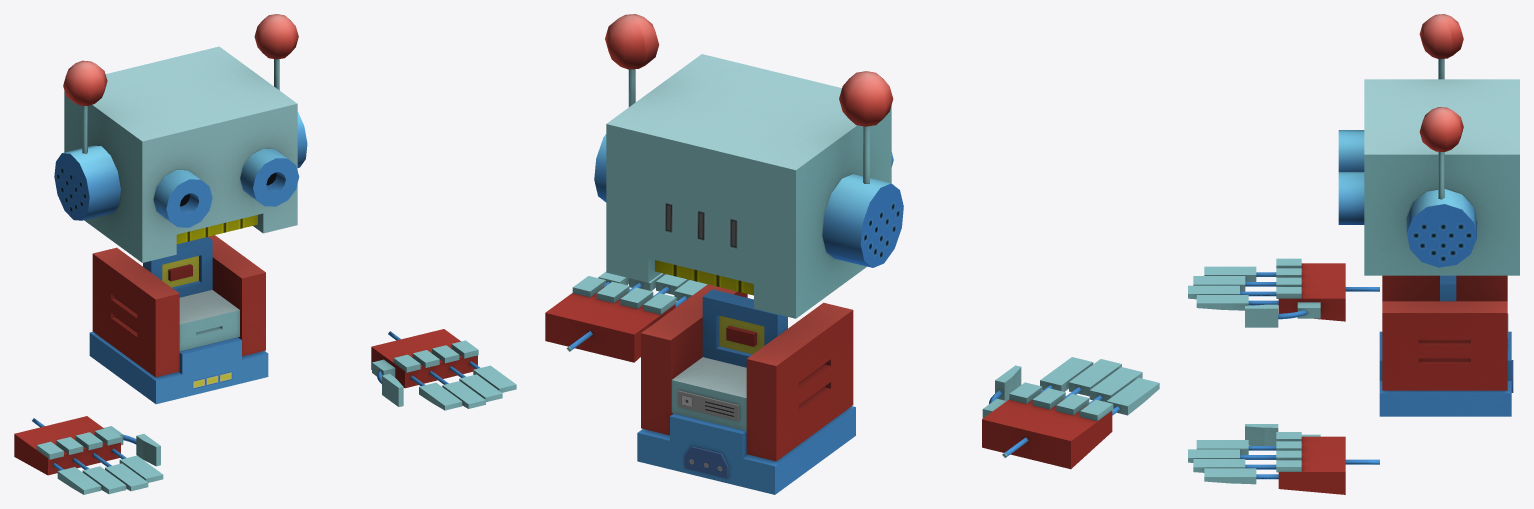
File: square-robot-avatar.glb
The picture shows the model from 3 angles, left to right: view 1: azimuth 30°, elevation 25°; view 2: azimuth 150°, elevation 25°; view 3: azimuth 270°, elevation 25°; orthographic projection. The views are drawn at different scales.
Parts seen in each view (by area): view 1: Square_Robot_mesh; view 2: Square_Robot_mesh; view 3: Square_Robot_mesh.
Boxes of the visible parts, box(x1,y1,x2,y2) form: Square_Robot_mesh: box(14, 14, 516, 494); Square_Robot_mesh: box(545, 14, 1159, 494); Square_Robot_mesh: box(1188, 14, 1519, 494).
Size of what is drawn, in the model's own units: 1.79 by 1.31 by 1.2.
Materials: 1 (1 with a texture image).
